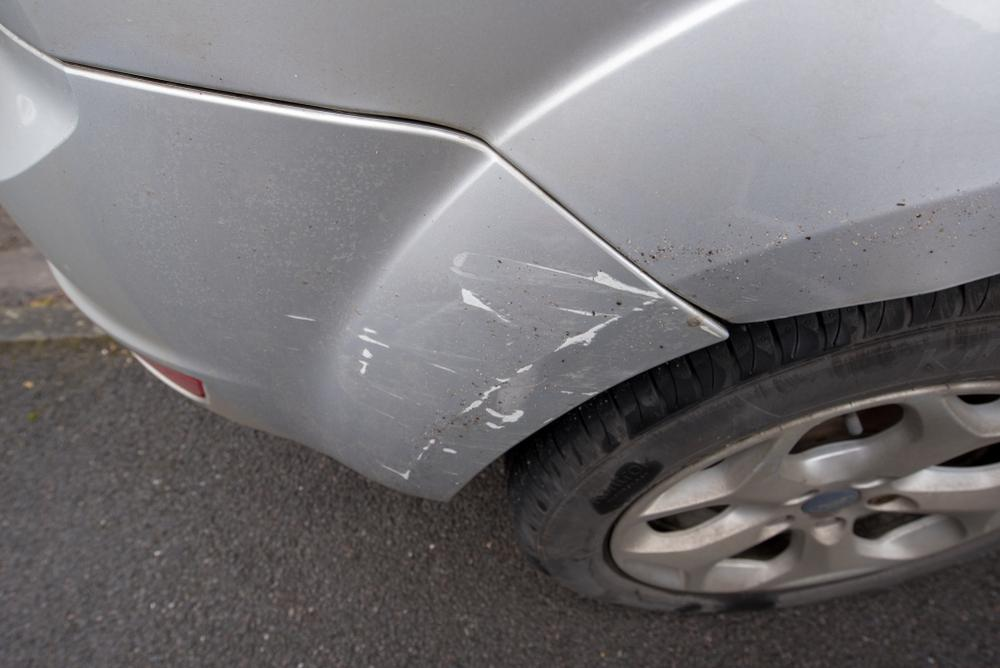scratch: (271, 248, 719, 487)
